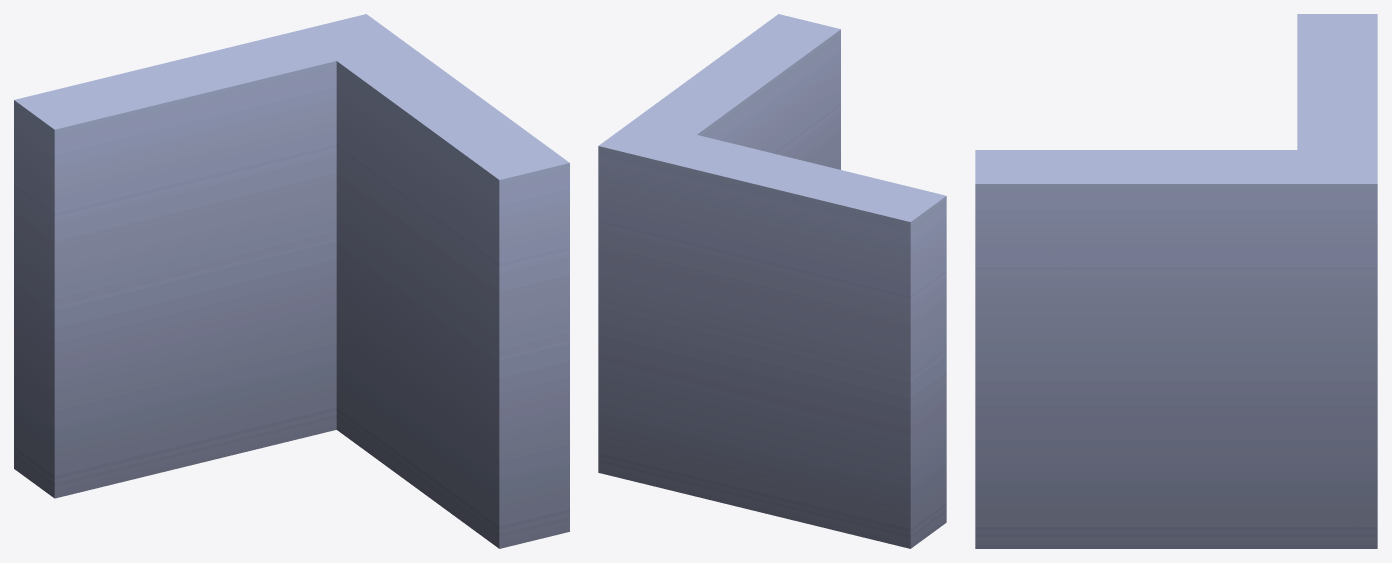
File: wall-corner.glb
3 views of the same model, side by side, from view 1: azimuth 30°, elevation 25°; view 2: azimuth 150°, elevation 25°; view 3: azimuth 270°, elevation 25° (orthographic). The views are drawn at different scales.
Visible parts, largest first — view 1: wall-corner; view 2: wall-corner; view 3: wall-corner.
Part boxes in pixels (x1,y1,x2,y2): wall-corner: (14,14,569,548); wall-corner: (598,14,946,548); wall-corner: (975,14,1377,548).
Size of the model in its own units: 1 by 1 by 1.
1 material, 1 textured.
